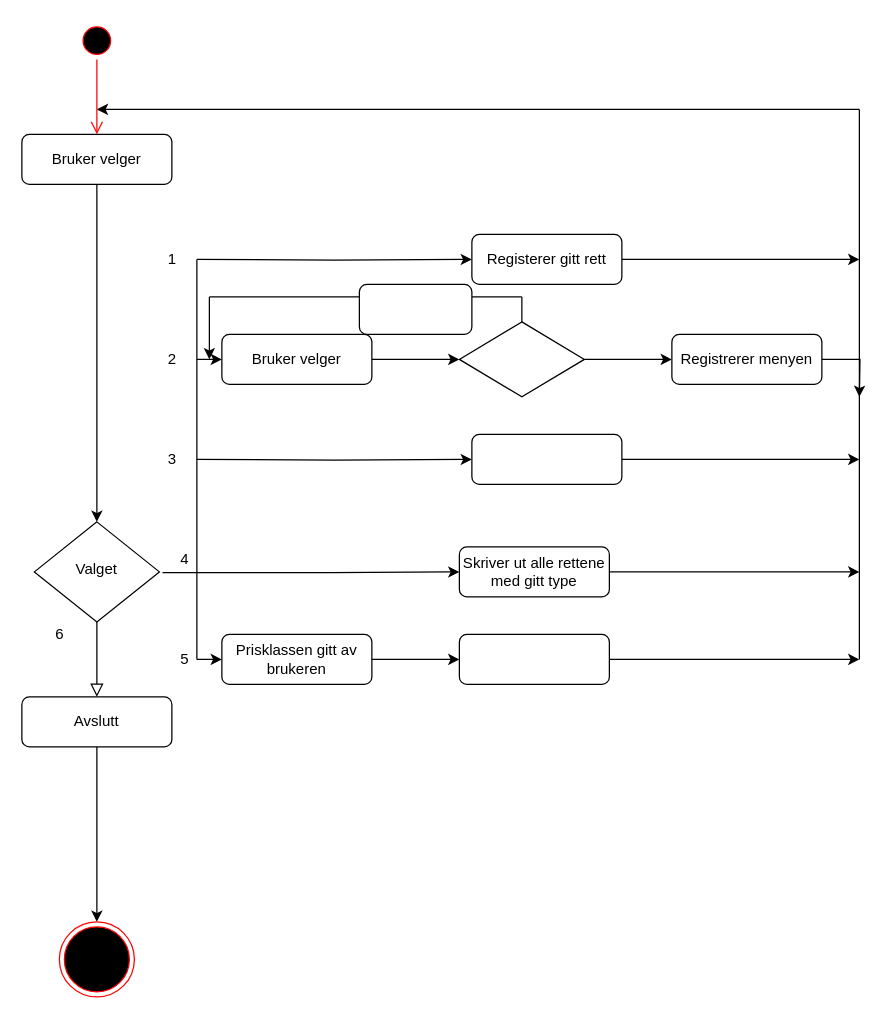
The diagram is 893 pixels wide and 1019 high, and some of its shapes have lost their labels. Here are the shapes that lost their labels. From the top down, the centre of each, then its label:
At (x=415, y=308): "Registrerer rett inn i menyen".
At (x=521, y=359): "Hvis valg er 1".
At (x=546, y=458): "Skriver ut gitt rett".
At (x=533, y=658): "Skriver ut menyer mellom en hvis prisklasse".
